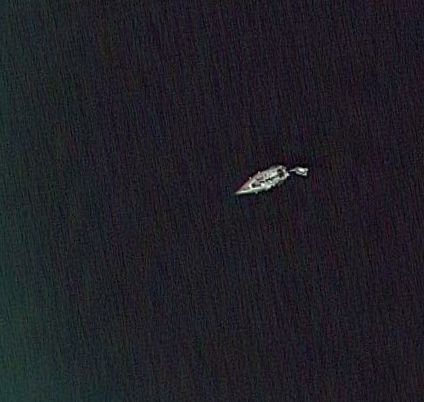boat: (231, 164, 293, 197)
